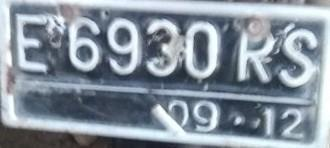0: (181, 17, 224, 80)
3: (140, 16, 182, 78)
6: (64, 16, 103, 72)
9: (100, 15, 142, 75)
E: (13, 10, 53, 74)
R: (230, 20, 280, 84)
S: (276, 26, 325, 86)
